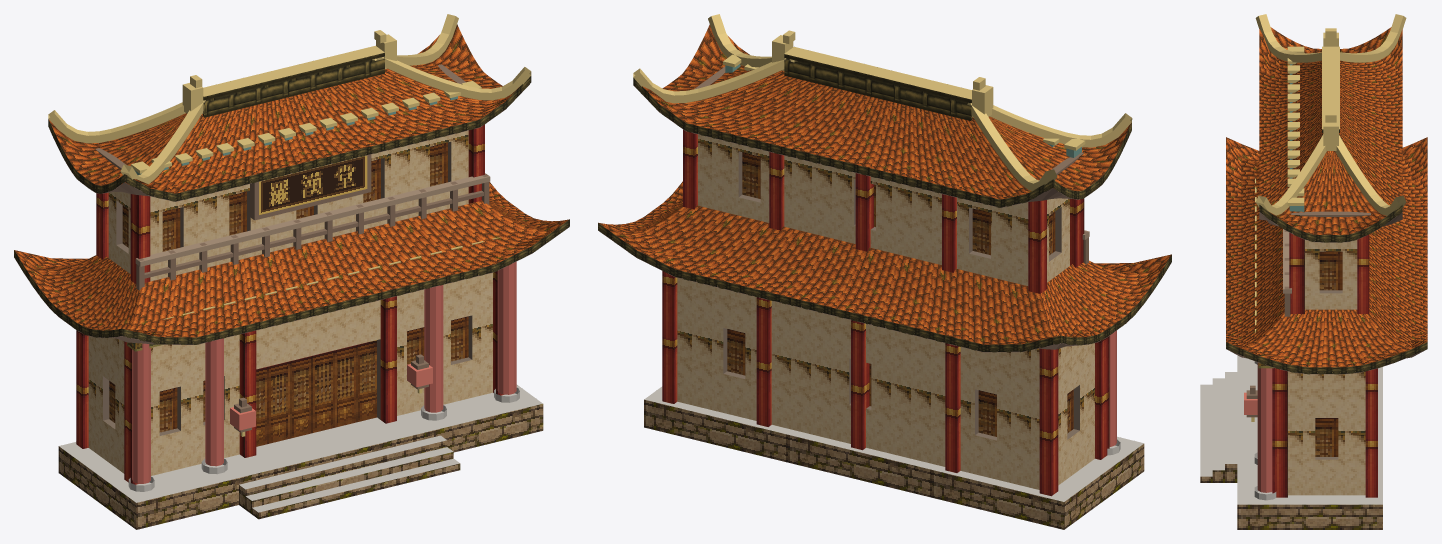
The model's file is g_shaolin_lodge.glb.
3 renders of one model, left to right at view 1: azimuth 30°, elevation 25°; view 2: azimuth 150°, elevation 25°; view 3: azimuth 270°, elevation 25°, orthographic. The views are drawn at different scales.
Parts seen in each view (by area): view 1: roof, plaster, stonetop, stone, post, col, door, ridgeend, eave, wood, win, ridge (+6 smaller); view 2: plaster, roof, post, stone, ridgeend, eave, ridge, stonetop, win, reveal, under, col; view 3: roof, plaster, stonetop, ridgeend, post, stone, eave, col, gold, win, wood, under (+1 smaller).
Part boxes in pixels (<box>): roof: <box>14,24,569,337</box>; plaster: <box>88,130,492,475</box>; stonetop: <box>59,384,542,512</box>; stone: <box>58,404,543,529</box>; post: <box>76,124,503,484</box>; col: <box>132,261,516,483</box>; door: <box>256,340,376,446</box>; ridgeend: <box>48,14,531,184</box>; eave: <box>14,76,569,344</box>; wood: <box>95,64,489,432</box>; win: <box>109,142,468,432</box>; ridge: <box>202,52,384,117</box>; plaster: <box>677,134,1094,489</box>; roof: <box>598,24,1171,344</box>; post: <box>662,129,1109,496</box>; stone: <box>644,399,1144,529</box>; ridgeend: <box>633,14,1132,190</box>; eave: <box>598,78,1171,352</box>; ridge: <box>784,54,972,120</box>; stonetop: <box>644,386,1143,501</box>; win: <box>727,152,1073,436</box>; reveal: <box>723,151,1079,440</box>; under: <box>598,85,1171,352</box>; col: <box>1109,330,1116,446</box>; roof: <box>1226,27,1427,367</box>; plaster: <box>1288,240,1365,495</box>; stonetop: <box>1200,355,1382,504</box>; ridgeend: <box>1255,14,1406,215</box>; post: <box>1272,232,1377,497</box>; stone: <box>1200,464,1382,529</box>; eave: <box>1226,205,1427,374</box>; col: <box>1257,362,1272,492</box>; gold: <box>1251,46,1304,421</box>; win: <box>1315,251,1342,456</box>; wood: <box>1246,211,1370,417</box>; under: <box>1226,212,1426,374</box>.
Size of the model in its own units: 86.83 by 71.97 by 40.69.
Materials: 20 (10 with a texture image).
